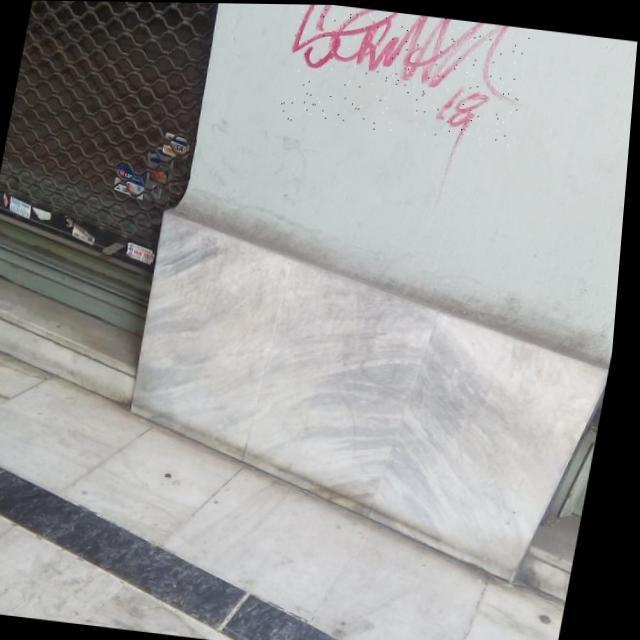-: (278, 3, 534, 146)
